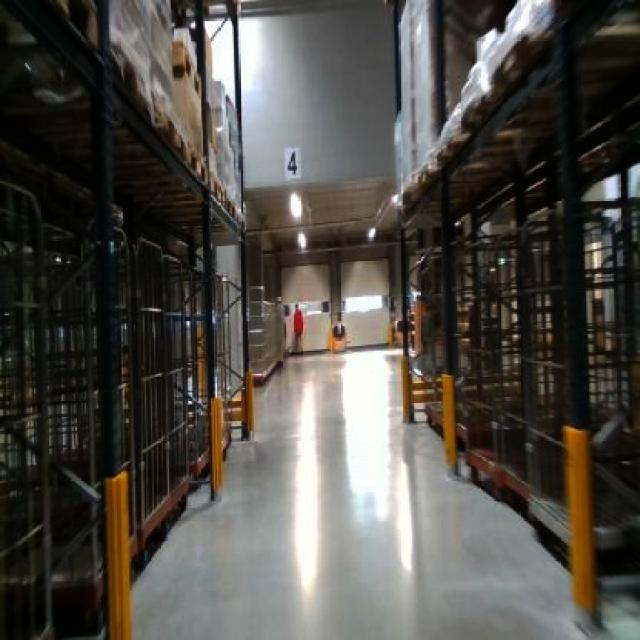pallets: (392, 0, 637, 623)
